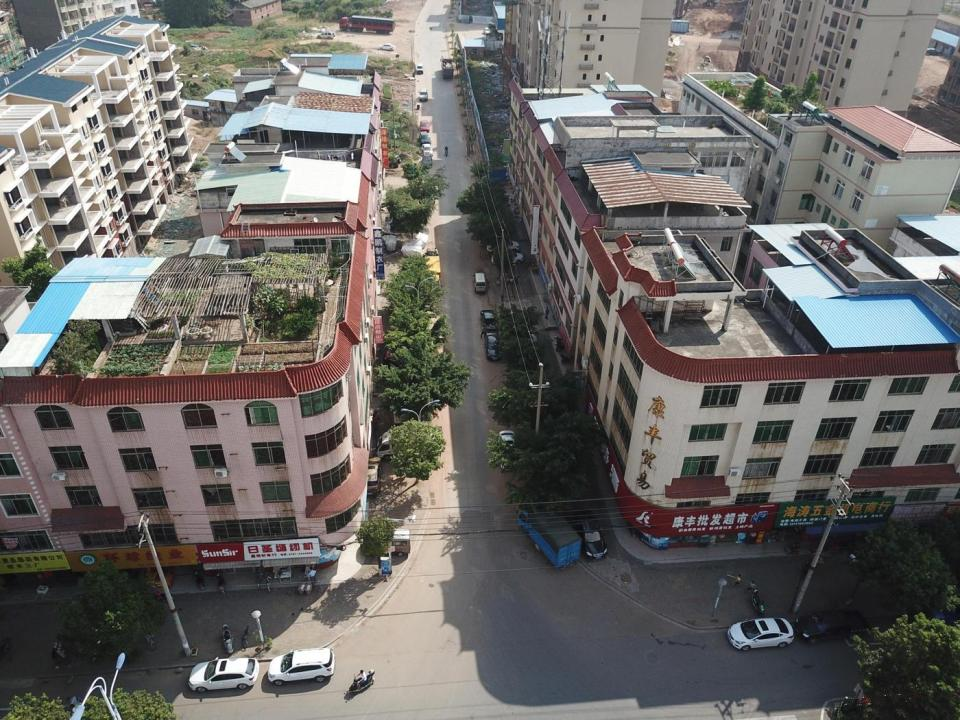car: (186, 656, 260, 691), (268, 648, 334, 686), (796, 612, 868, 644), (726, 618, 794, 651), (576, 508, 608, 560), (499, 430, 518, 471), (364, 456, 381, 496), (485, 333, 501, 360), (491, 252, 524, 265), (481, 310, 498, 333), (479, 234, 512, 245), (487, 242, 520, 252), (381, 154, 401, 168), (422, 143, 434, 157), (419, 131, 431, 144), (422, 154, 432, 168), (425, 249, 434, 263), (316, 32, 334, 39), (420, 120, 430, 132), (378, 44, 395, 51), (489, 20, 504, 27), (483, 28, 491, 34)
truck: (517, 508, 581, 570), (338, 16, 395, 34), (442, 56, 454, 80)
van: (377, 430, 438, 461), (372, 529, 412, 557), (473, 272, 486, 292), (419, 88, 428, 101), (416, 63, 424, 74)
